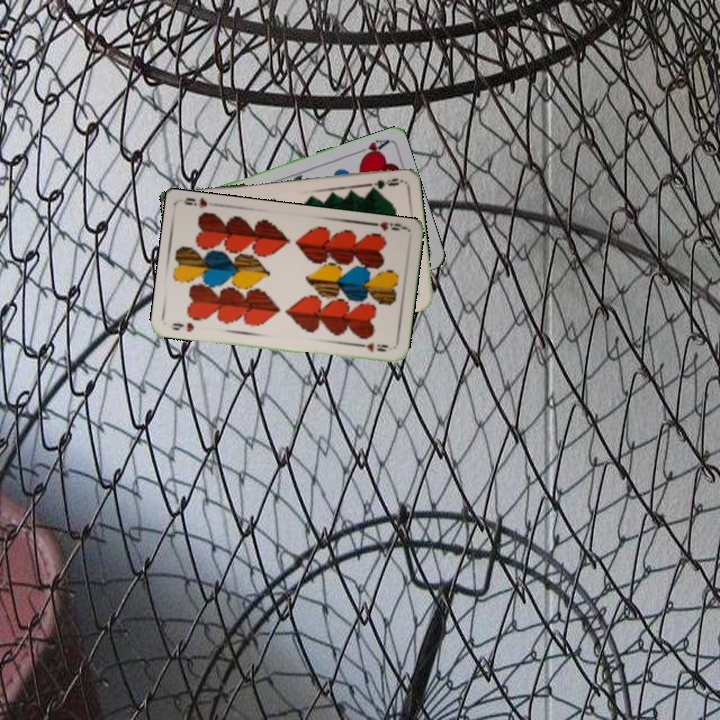G9: (363, 174, 404, 191)
H9: (367, 218, 408, 233), (168, 319, 196, 334)
HA: (352, 135, 391, 161)
